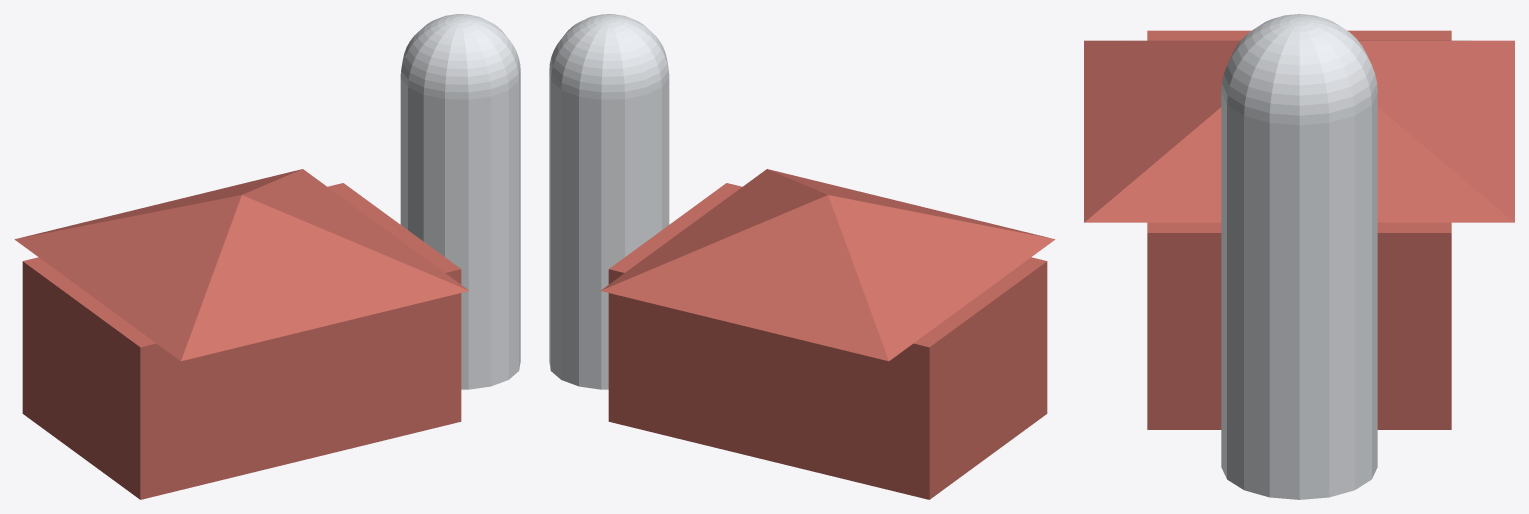
The model's file is bldg_barn.glb.
3 views of the same model, side by side, from view 1: azimuth 30°, elevation 25°; view 2: azimuth 150°, elevation 25°; view 3: azimuth 270°, elevation 25° (orthographic). The views are drawn at different scales.
Visible parts, largest first — view 1: bldg_barn; view 2: bldg_barn; view 3: bldg_barn.
Part boxes in pixels (x1,y1,x2,y2): bldg_barn: (14,14,520,499); bldg_barn: (549,14,1055,499); bldg_barn: (1084,14,1514,499).
Bounding box in the file's own units: 29.6 × 22.6 × 19.8.
